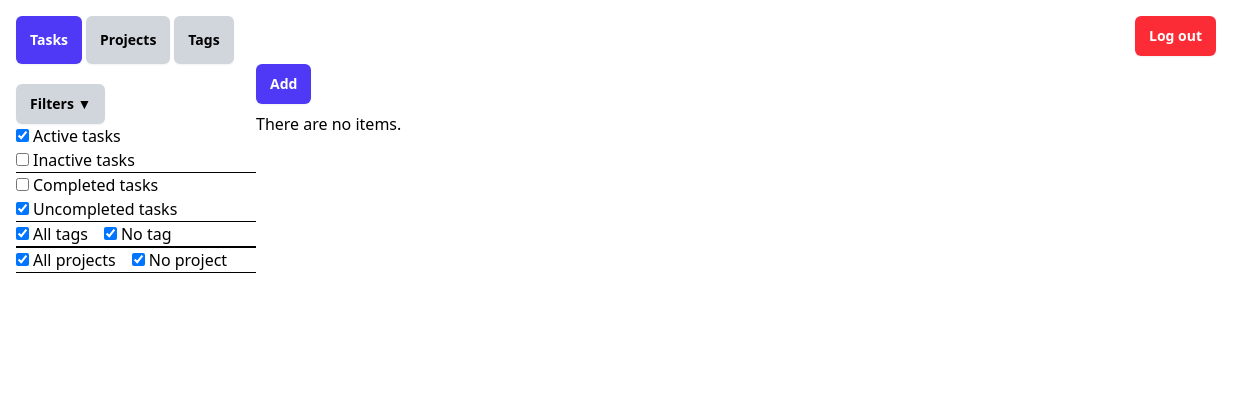
it: App › shows login form after logging out
Step 1. Click the button "Log out" → (1176, 36), box [1135,16,1216,56]
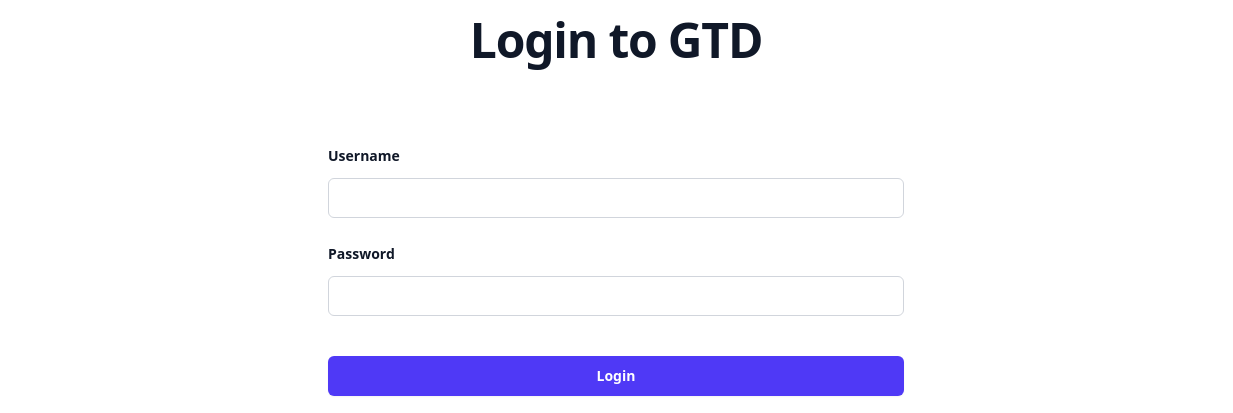
Now the form with test id "login-view" is shown, box [328,144,904,396]
